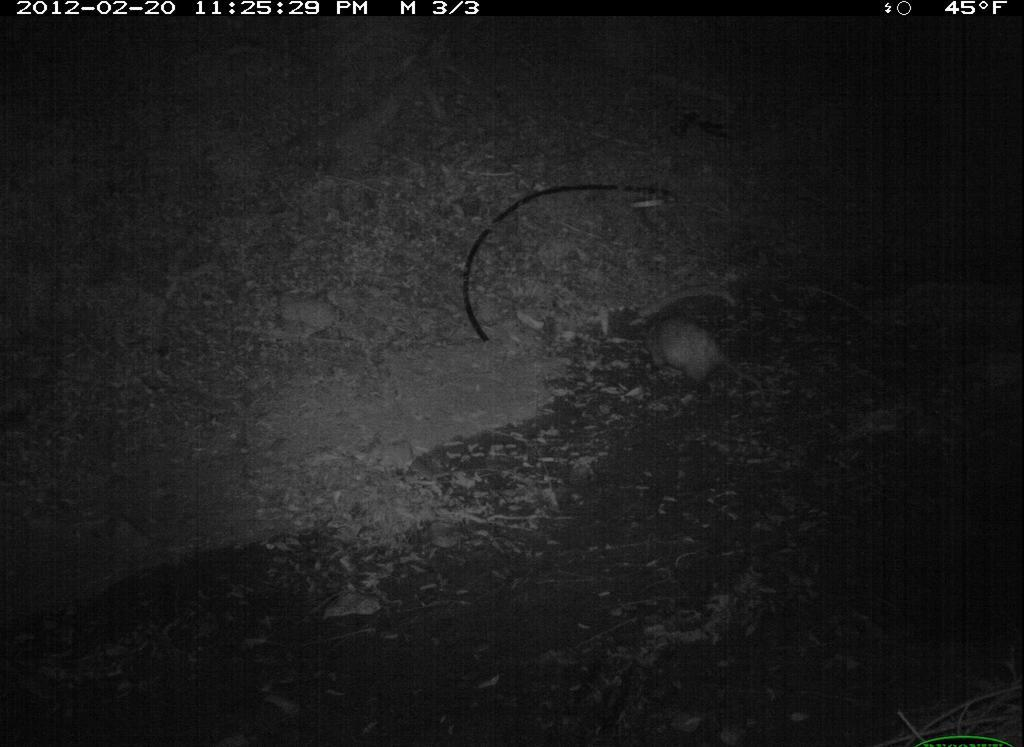opossum: (638, 294, 786, 434)
